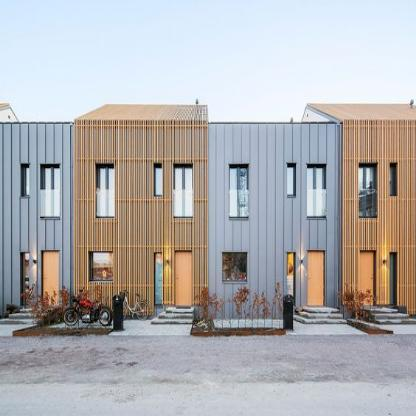Balcony: (41, 190, 60, 217), (229, 190, 248, 217), (359, 190, 378, 217), (95, 190, 114, 217), (174, 190, 193, 217), (307, 190, 326, 217)
Building Outline: (0, 103, 416, 319)
Door: (41, 165, 60, 217), (229, 165, 248, 217), (174, 165, 193, 217), (307, 165, 326, 217), (42, 252, 59, 306), (175, 252, 192, 306), (308, 252, 325, 306), (359, 165, 376, 217), (97, 165, 114, 217), (361, 252, 374, 306)
Floor Slab: (0, 219, 415, 231)
Window: (224, 253, 247, 281), (91, 252, 113, 281), (21, 253, 29, 305), (154, 253, 162, 305), (286, 253, 294, 305), (390, 253, 396, 305), (22, 164, 30, 197), (388, 164, 396, 197), (154, 164, 162, 197), (287, 164, 295, 197)
